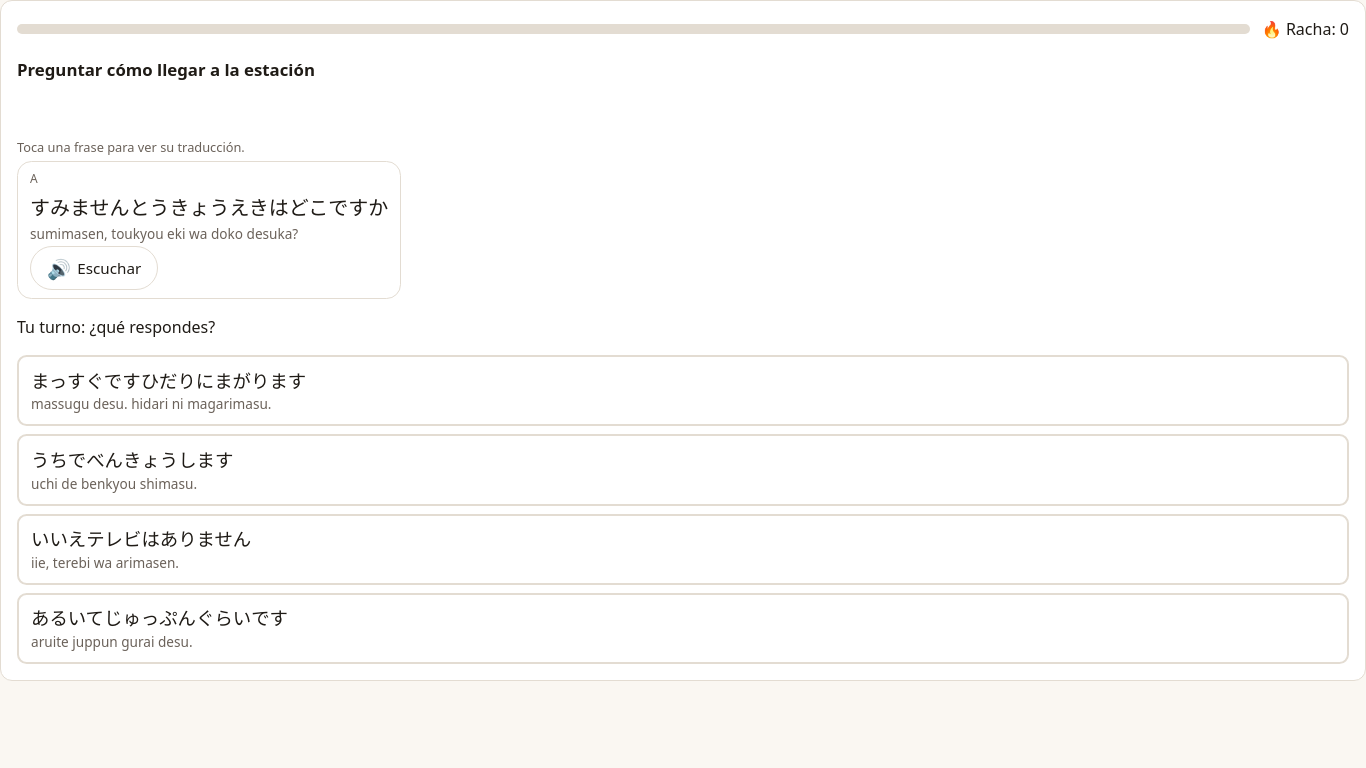
Dialogues game › translation is hidden until the line card is flipped (and flips back)
The image size is (1366, 768).
Expected: the text "Disculpe, ¿dónde está la estación de Tokio?" is not shown
Click the button with test id "flip-line" at (209, 217), box [30,188,388,246]
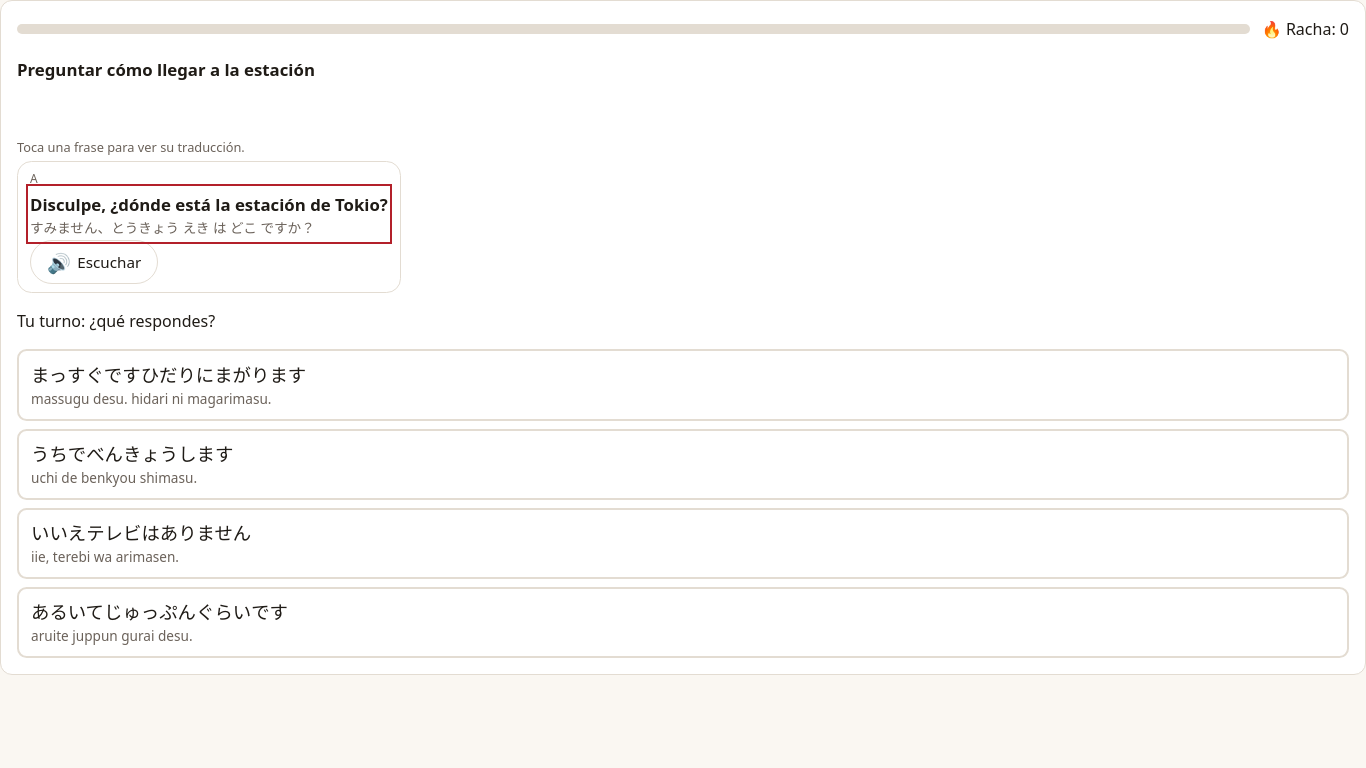
Result: the text "Disculpe, ¿dónde está la estación de Tokio?" is shown at [30,192,388,217]
Click the button with test id "flip-line" at (209, 214), box [30,188,388,240]
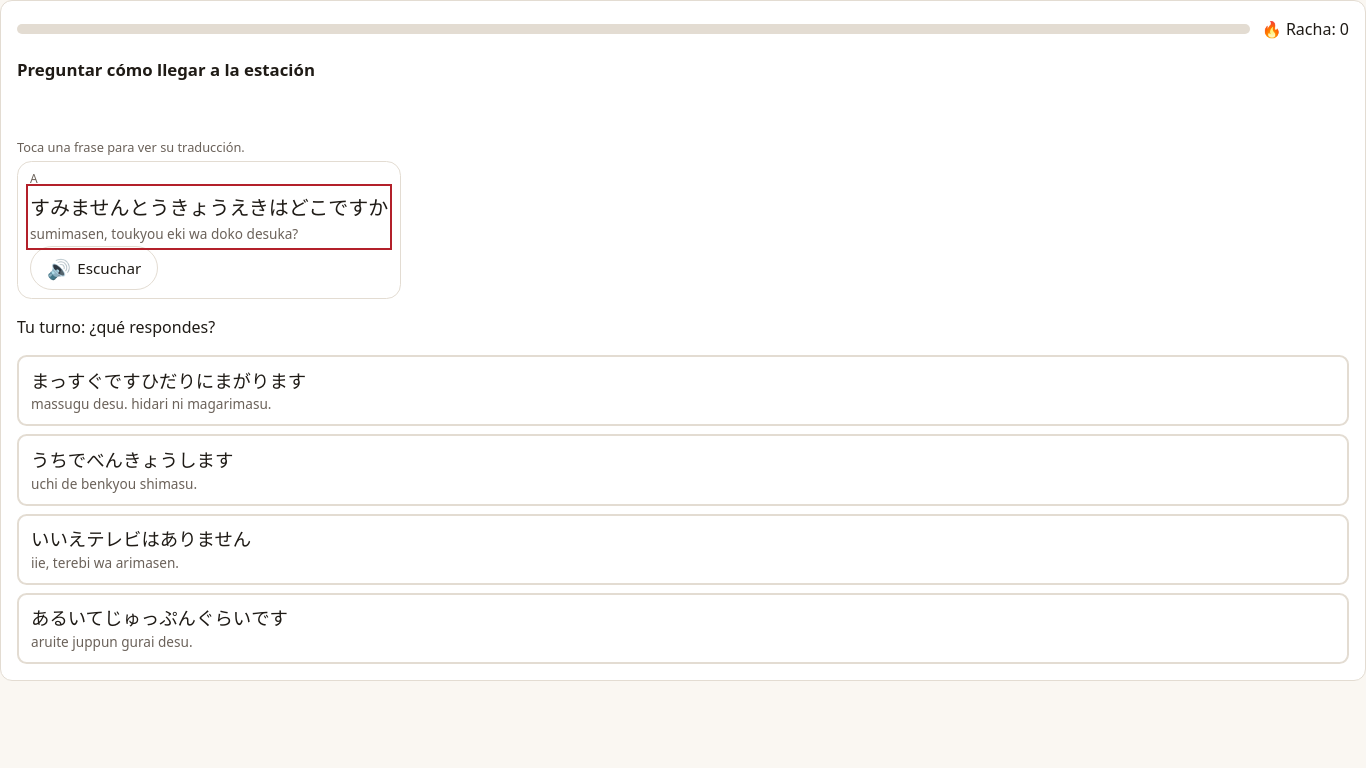
Result: the text "Disculpe, ¿dónde está la estación de Tokio?" is gone
